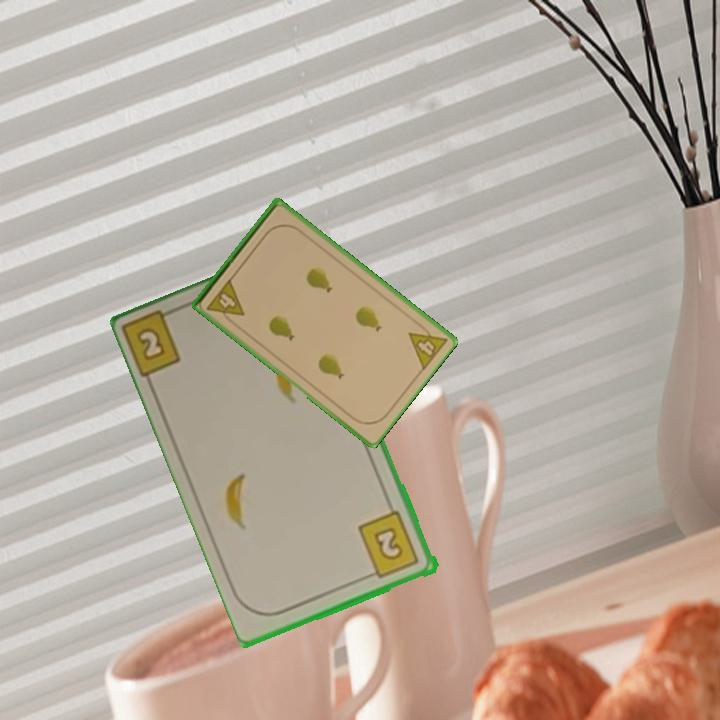2b: (121, 303, 185, 382), (354, 508, 423, 581)
4p: (405, 317, 450, 373), (203, 275, 247, 328)
